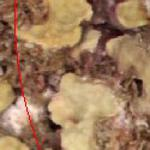alive: (3, 2, 144, 147)
